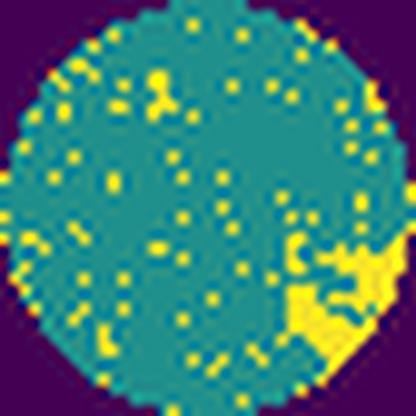Edge-Loc: (272, 218, 415, 395)
